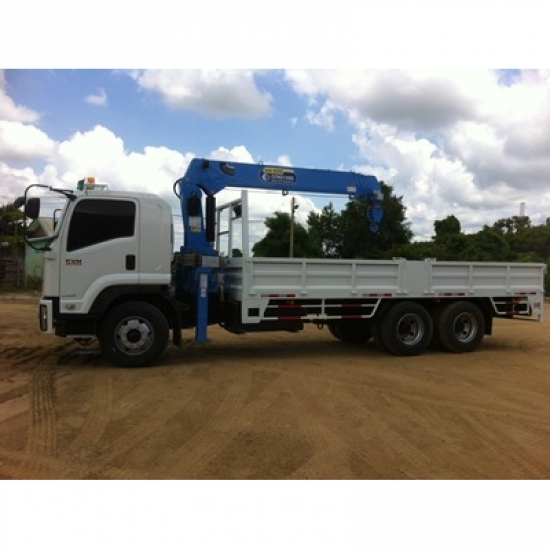truck: (36, 159, 545, 361)
